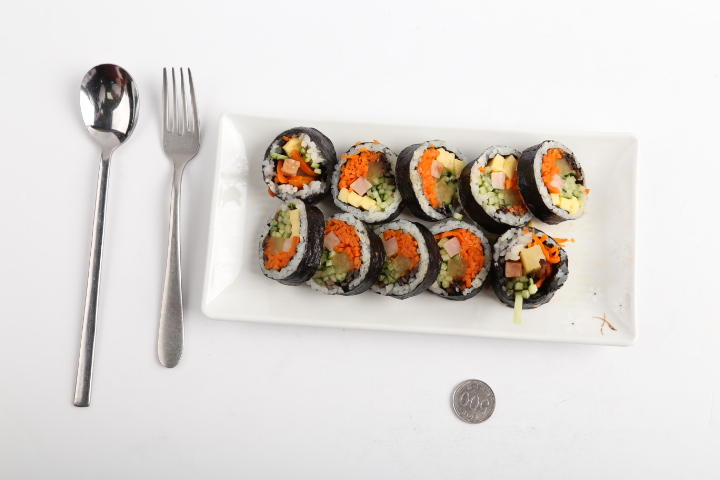dish: (200, 111, 637, 345)
ref_coin: (453, 379, 496, 423)
ref_fork: (162, 66, 201, 167)
ref_spoon: (79, 63, 140, 160)
김밥: (257, 126, 588, 310)
